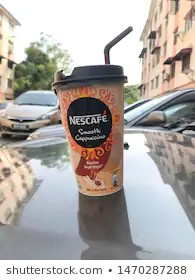nescafe-cappe: (52, 59, 134, 195)
